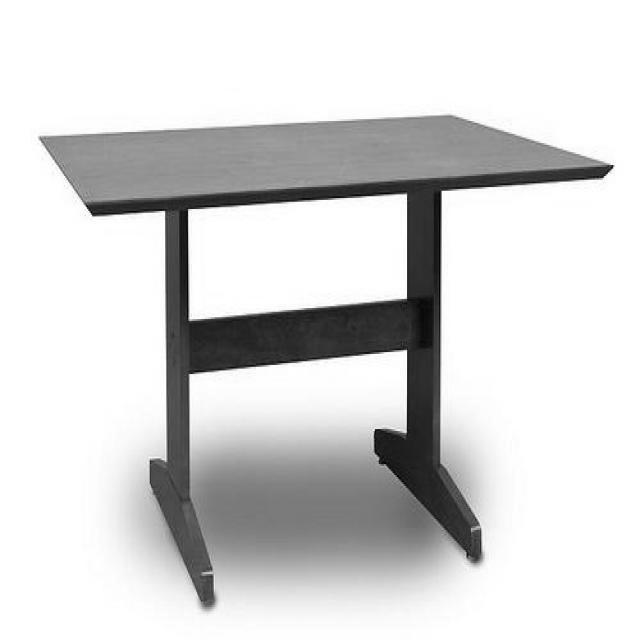table: (39, 113, 611, 607)
